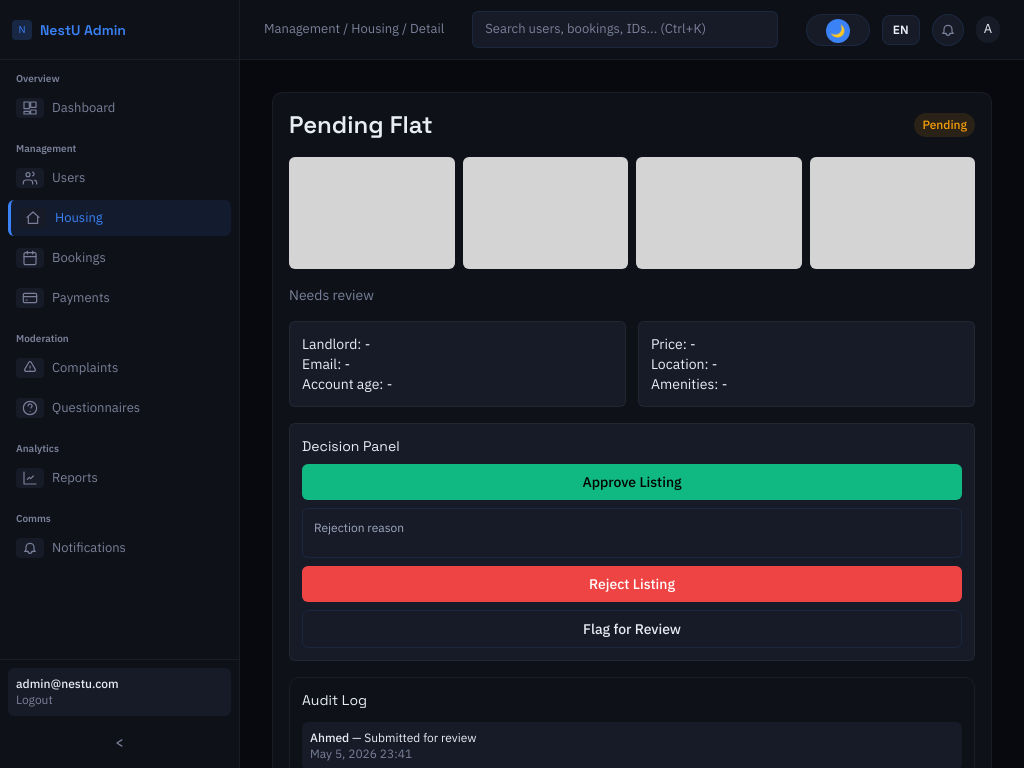
it: Phase 15 admin workflows › 4) reject listing with reason writes an audit entry
The width and height of the screenshot is (1024, 768).
Expected: the heading "Pending Flat" is shown, [289,109,433,141]
Type "Missing safety certification" into the field labelled "Rejection reason" at coordinates (632, 533), box [302,508,962,558]
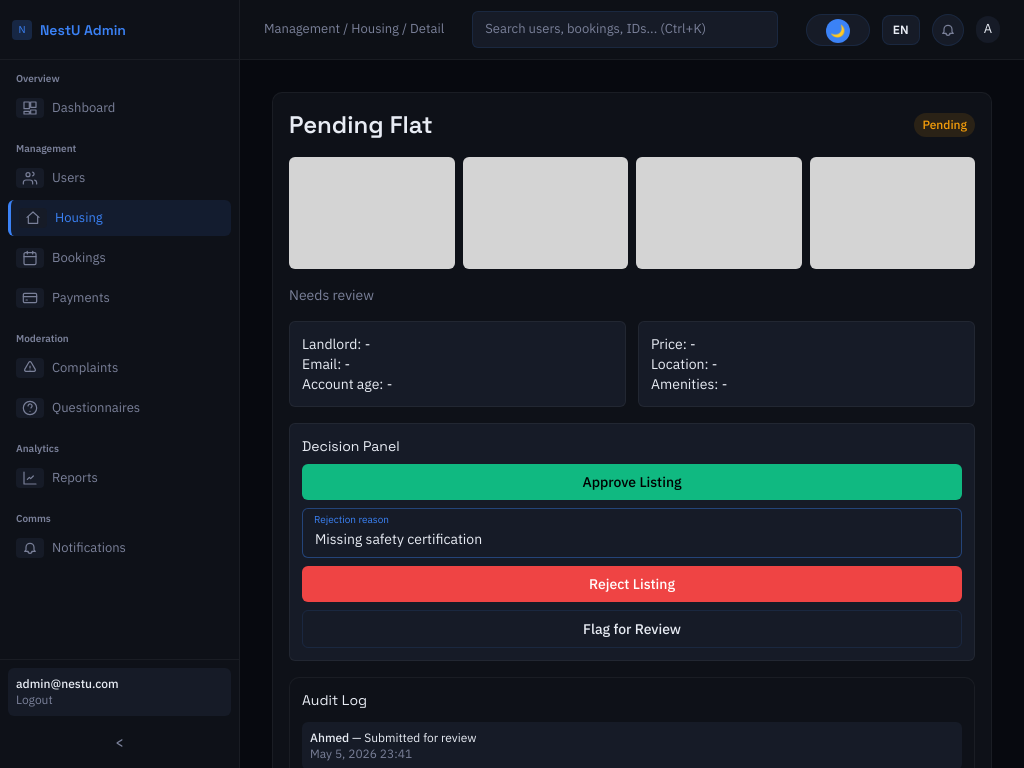
Click the button "Reject Listing" at coordinates (632, 584), box [302,566,962,602]
(page scrolled)
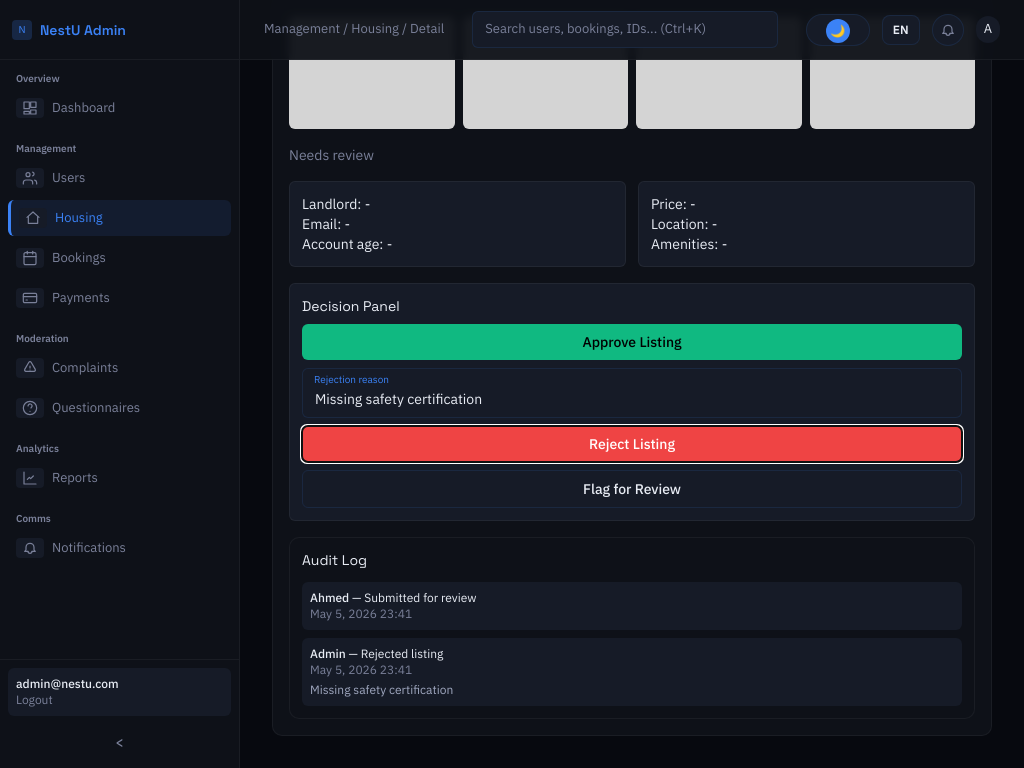
Expected: the text "Missing safety certification" is shown, [310,682,453,697]
